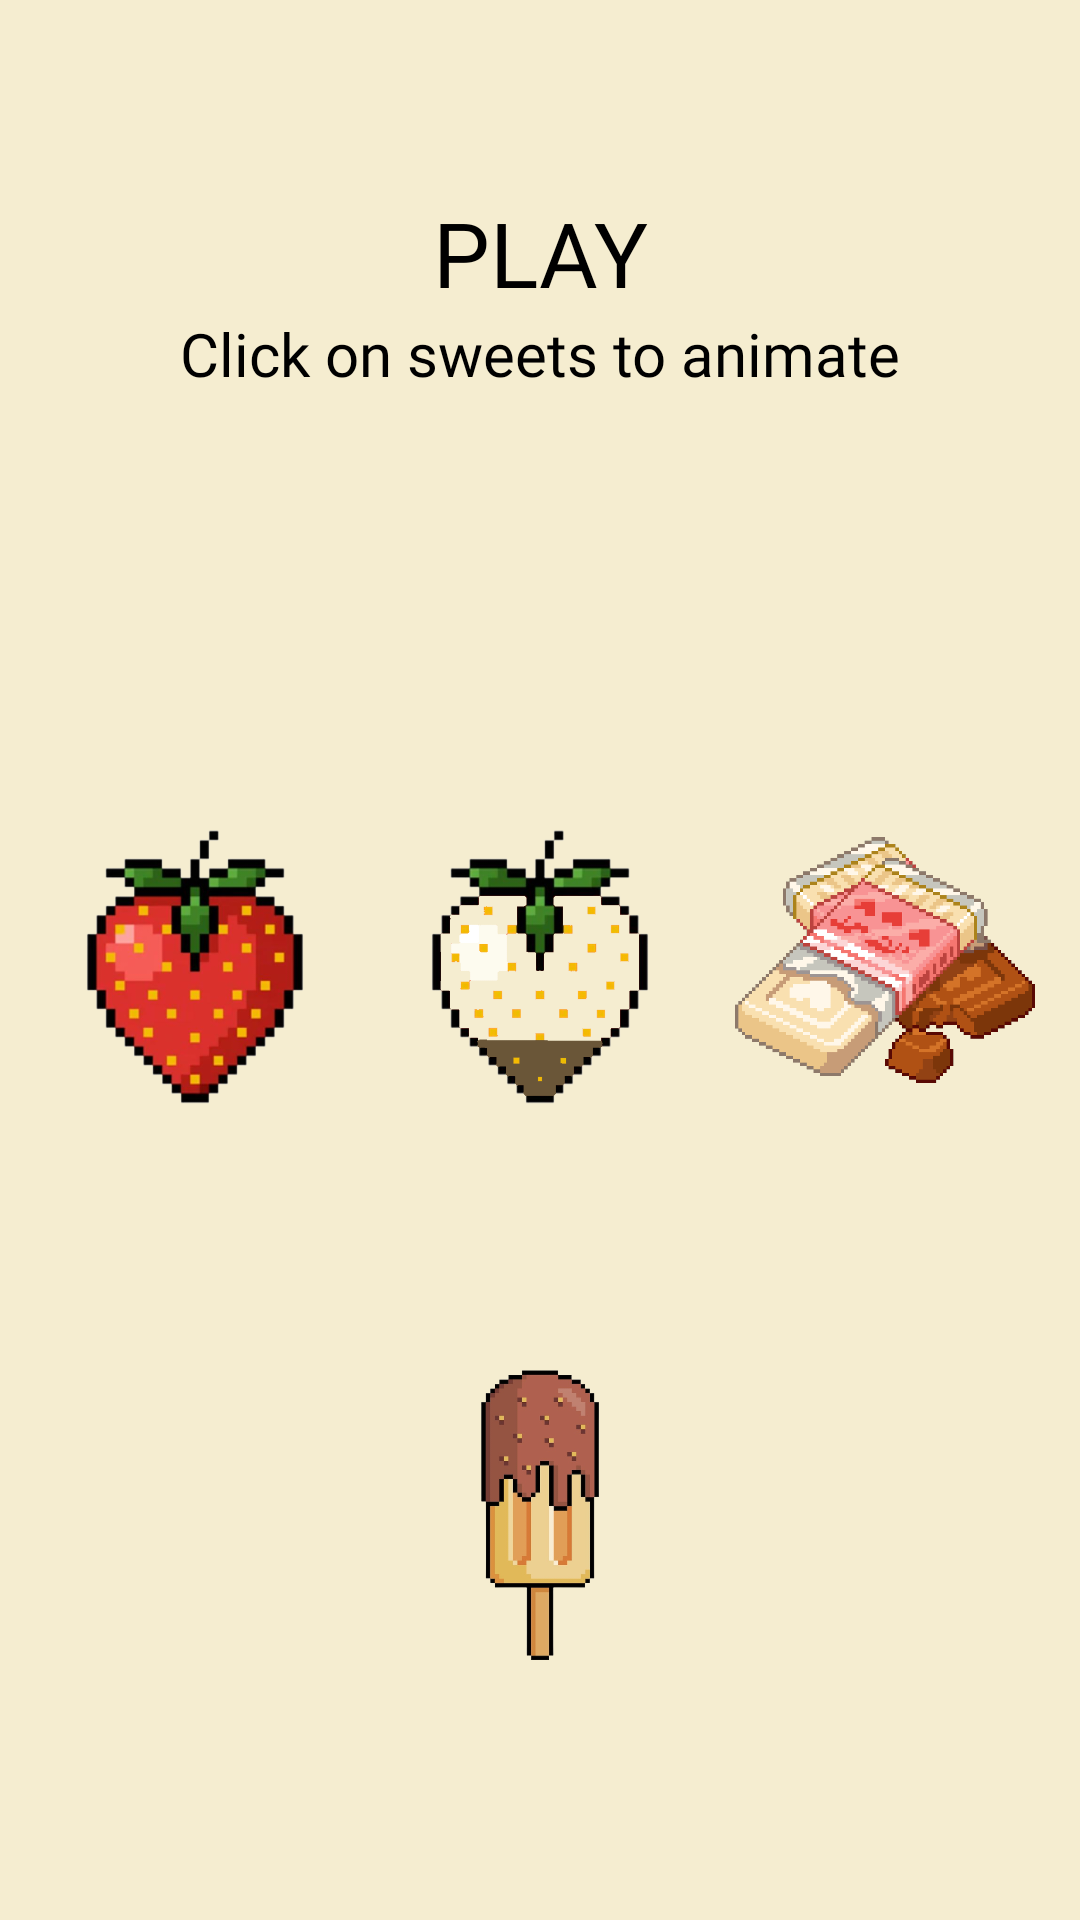

Named icons in this screenshot (1080px×1920px) and their centers, (x,y):
chocolatebar: (885,960)
icecream: (540,1515)
strawberry: (195,966)
whitestrawberry: (540,966)
